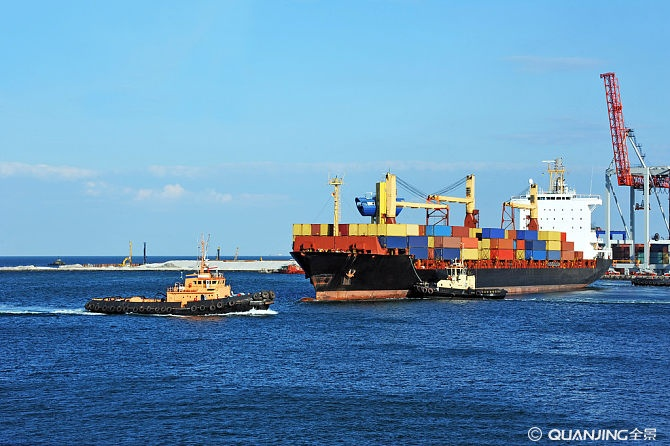Cargoship: (292, 156, 621, 311)
otherboat: (90, 243, 275, 321), (399, 256, 508, 305)
